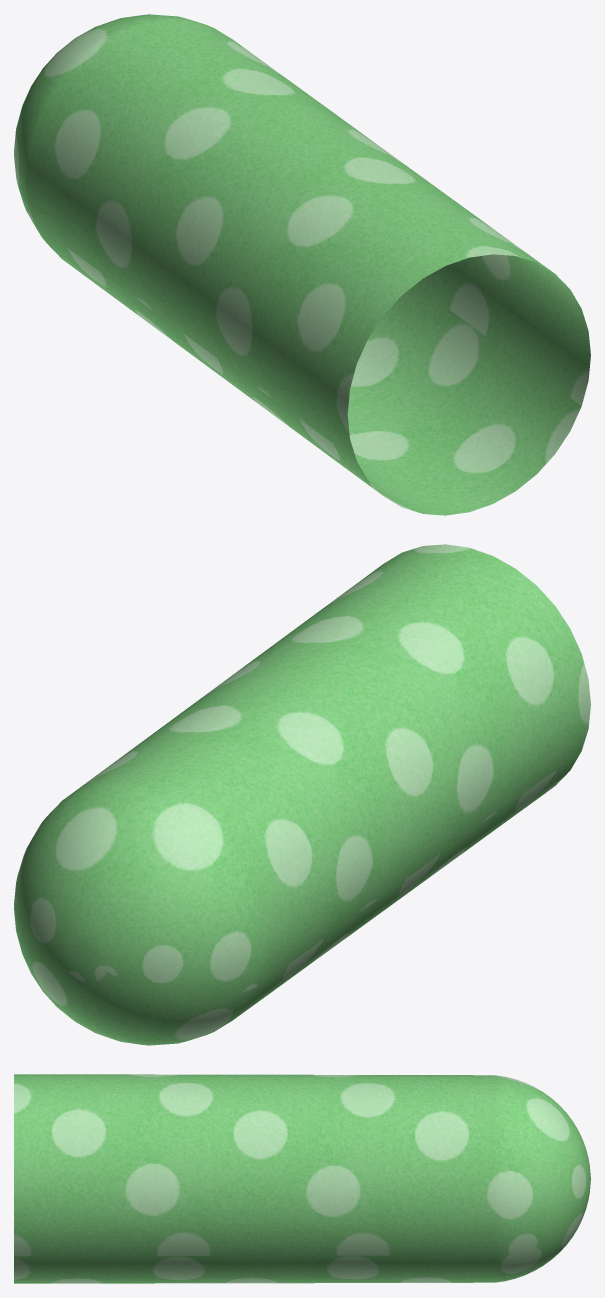
Rendered from MushHills.FBX.
3 views of the same model, one above another, from view 1: azimuth 30°, elevation 25°; view 2: azimuth 150°, elevation 25°; view 3: azimuth 270°, elevation 25° (orthographic). The views are drawn at different scales.
Visible parts, largest first — view 1: pSphere28__Mountain00; view 2: pSphere28__Mountain00; view 3: pSphere28__Mountain00.
Boxes of the visible parts, bbox=[...] form: pSphere28__Mountain00: bbox=[14, 14, 590, 515]; pSphere28__Mountain00: bbox=[14, 544, 590, 1045]; pSphere28__Mountain00: bbox=[14, 1074, 590, 1283].
Bounding box in the file's own units: 1601 × 1601 × 4404.
